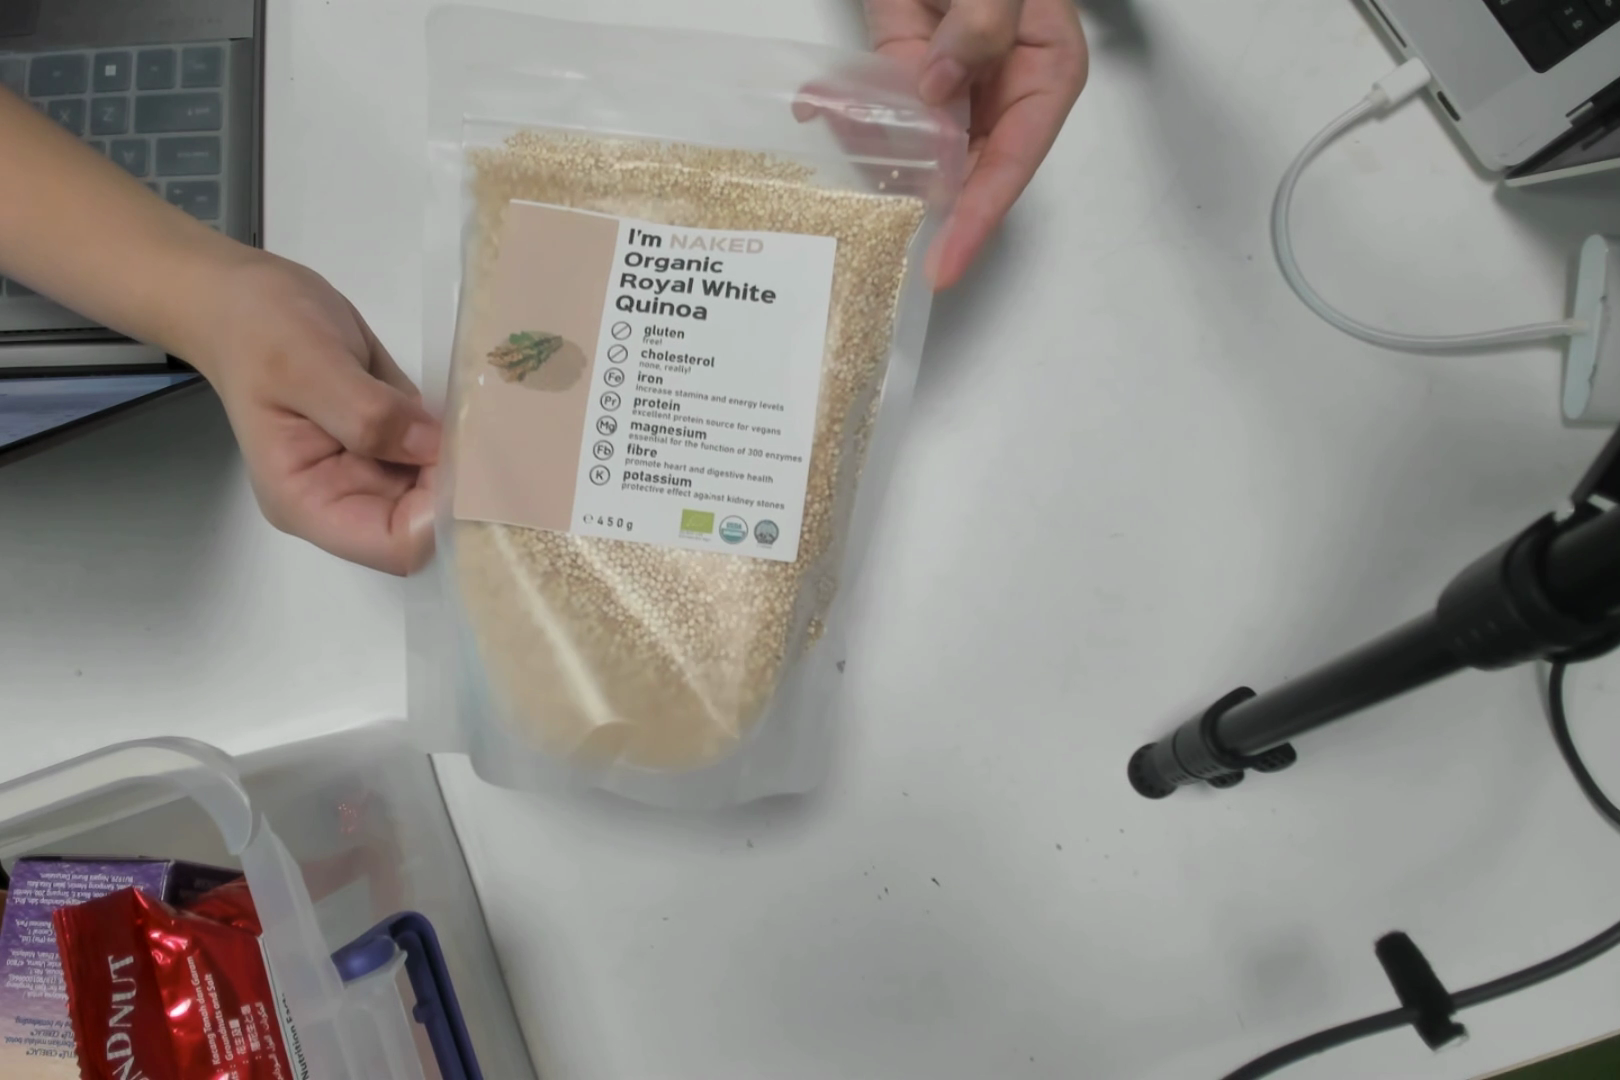Rice(brown-others)_400-499g_Halal_NonHealthy: (444, 137, 871, 751)
